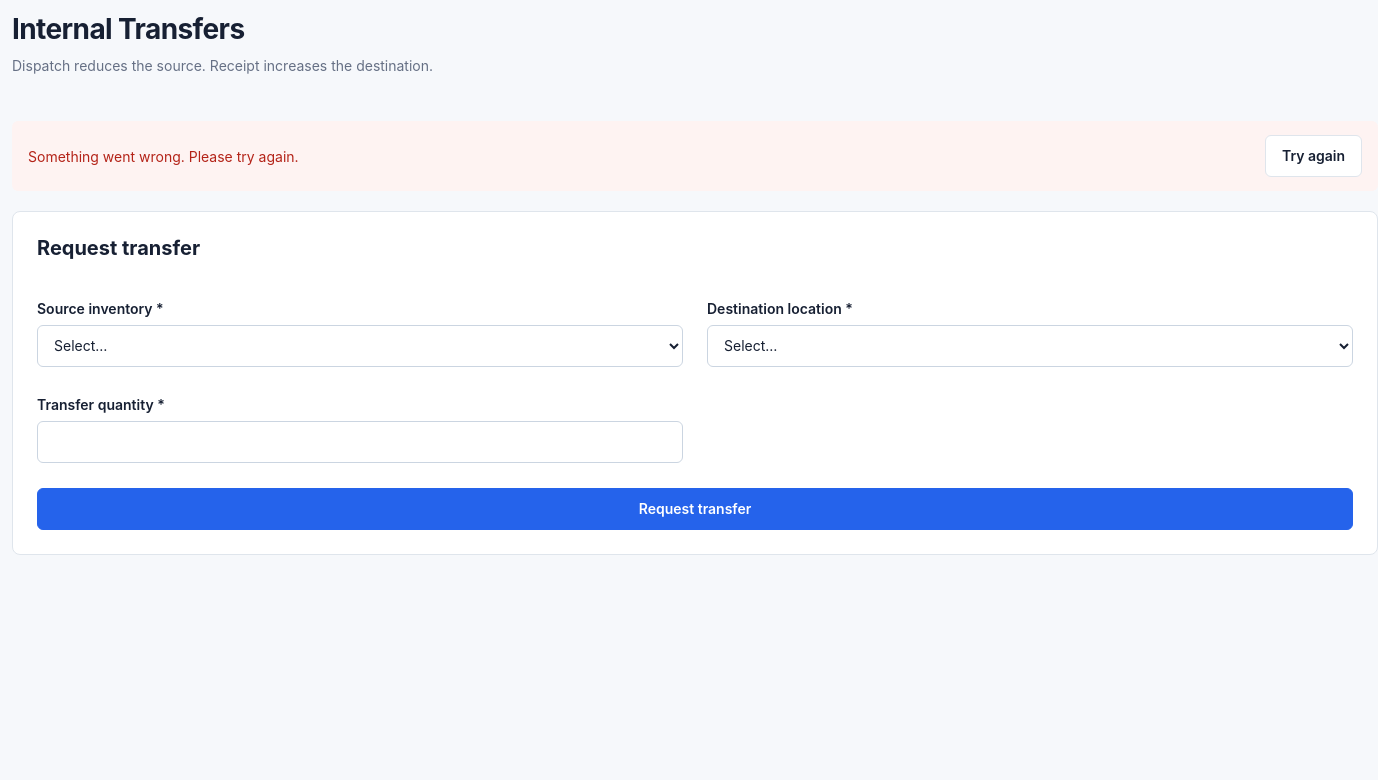
Test case: shows retry and empty states
Expected: the message "Something went wrong. Please try again. Try again" is shown, top-left (12, 121), bottom-right (1377, 191)
Click the button "Try again": (1313, 156) top-left (1265, 135), bottom-right (1362, 177)
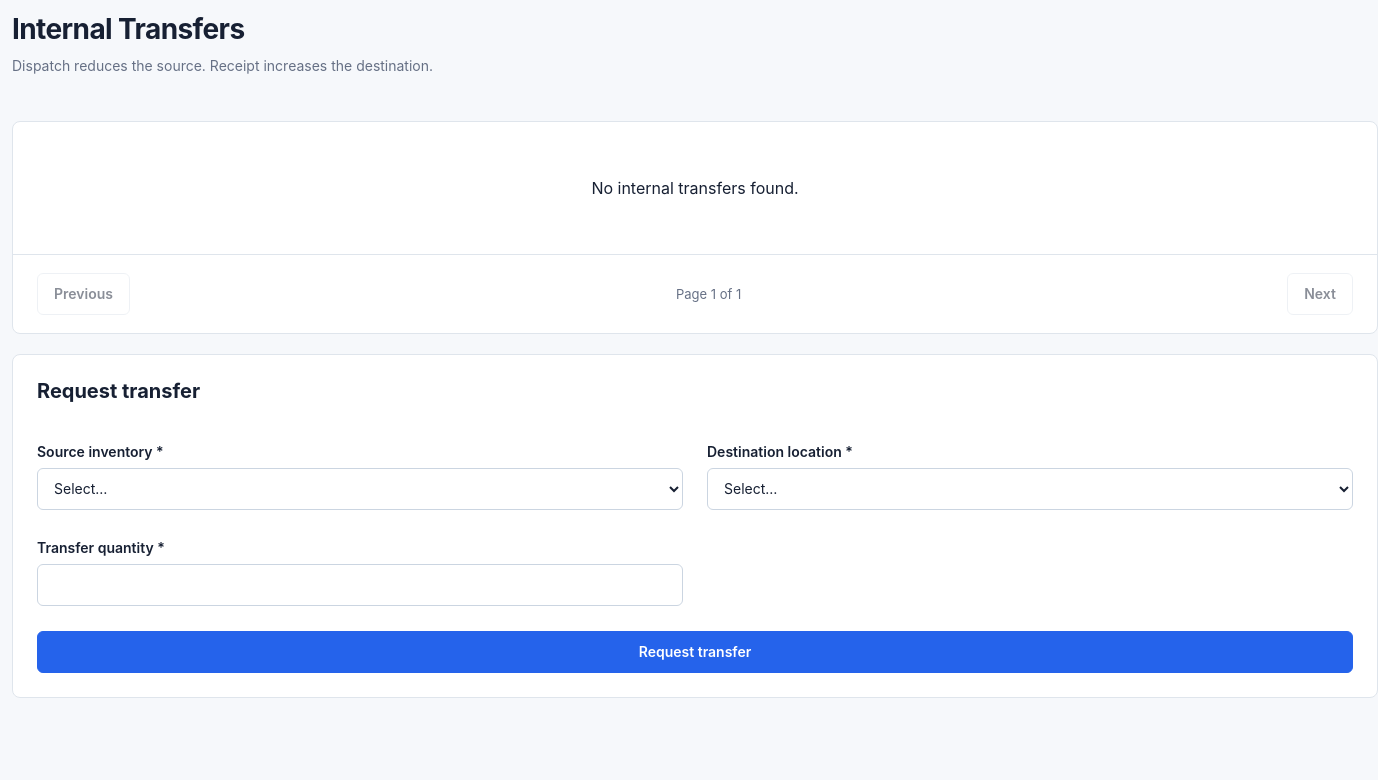
Expected: the text "No internal transfers found." is shown, top-left (591, 178), bottom-right (799, 198)
Expected: the button "Next" is disabled, top-left (1287, 273), bottom-right (1353, 315)
